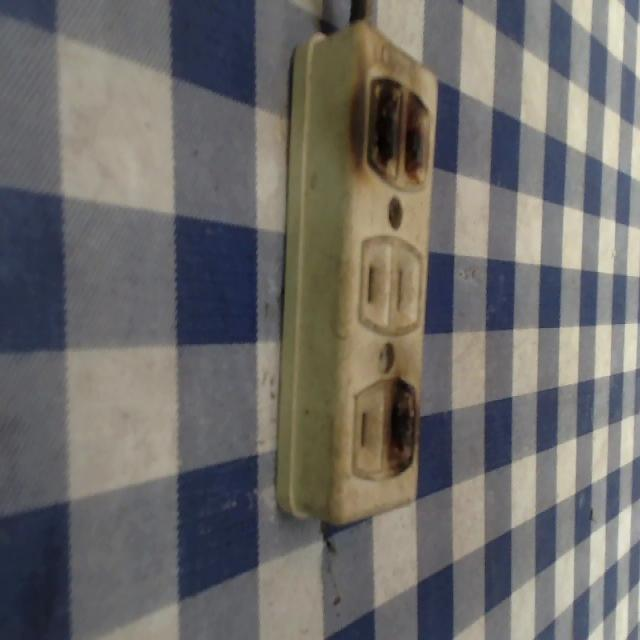-: (343, 62, 433, 190), (379, 374, 421, 474)
